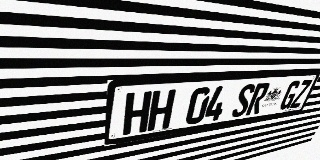0: (184, 87, 212, 125)
4: (203, 85, 230, 122)
G: (278, 80, 302, 110)
H: (122, 91, 152, 135), (147, 89, 176, 131)
R: (245, 83, 271, 116)
S: (230, 84, 257, 118)
Z: (289, 80, 313, 109)
